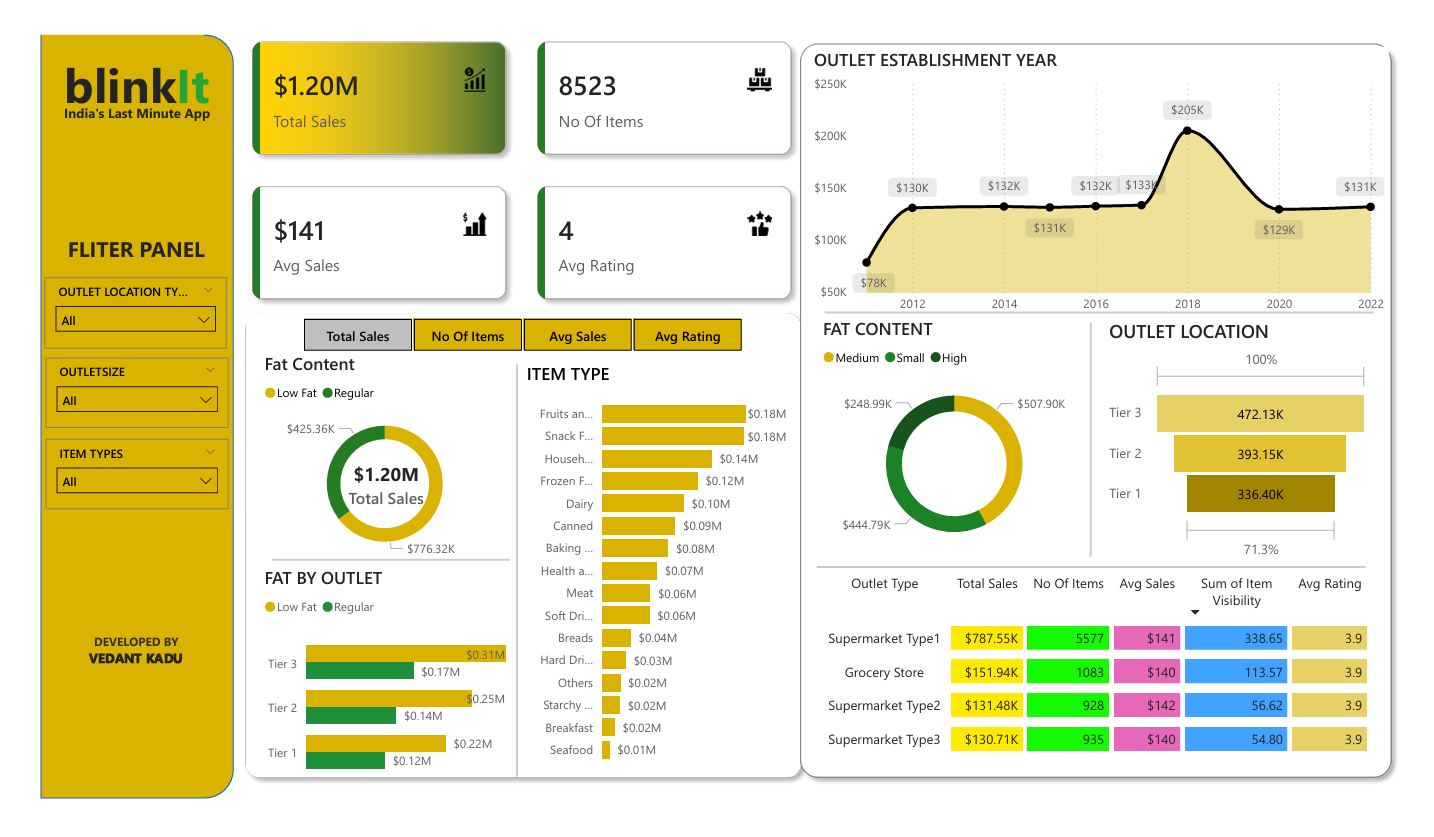

This screenshot's page, from the dashboard's own definition file:
{"tool":"powerbi","page":{"name":"Page 1","canvas":[1400,800],"ordinal":0},"visuals":[{"type":"shape","box":[16.5,12,195.1,771.4],"z":0},{"type":"textbox","box":[16.5,76.5,195.1,30],"z":1000},{"type":"textbox","box":[16.5,24,195.1,78],"z":2000},{"type":"cardVisual","fields":{"Data":["BlinkIT Grocery Data.Total Sales","BlinkIT Grocery Data.No Of Items","BlinkIT Grocery Data.Avg Sales","BlinkIT Grocery Data.Avg Rating"]},"box":[213.6,1.5,579.3,294.2],"z":3000},{"type":"shape","box":[214.6,283.7,579.3,487.8],"z":4000},{"type":"donutChart","title":"Fat Content","fields":{"Y":["BlinkIT Grocery Data.Total Sales"],"Category":["BlinkIT Grocery Data.Item Fat Content"]},"box":[237.6,331.7,253.6,217.6],"z":5000},{"type":"slicer","fields":{"Values":["Metric.Parameter"]},"box":[257.4,291.7,491.1,46.1],"z":6000},{"type":"clusteredBarChart","title":"FAT BY OUTLET","fields":{"Y":["BlinkIT Grocery Data.Total Sales"],"Category":["BlinkIT Grocery Data.Outlet Location Type"],"Series":["BlinkIT Grocery Data.Item Fat Content"]},"box":[237.6,547.8,253.6,231.1],"z":7000},{"type":"cardVisual","fields":{"Data":["BlinkIT Grocery Data.Total Sales"]},"box":[307.1,423.2,118.6,87.1],"z":8000},{"type":"barChart","title":"ITEM TYPE","fields":{"Y":["BlinkIT Grocery Data.Total Sales"],"Category":["BlinkIT Grocery Data.Item Type"]},"box":[503.3,342.2,271.7,415.7],"z":9000},{"type":"shape","box":[775.3,11.9,614.6,758.9],"z":10000},{"type":"shape","box":[479.3,345.2,37.5,415.7],"z":11000},{"type":"shape","box":[250.6,532.8,240.1,18],"z":12000},{"type":"lineChart","title":"OUTLET ESTABLISHMENT YEAR","fields":{"Y":["BlinkIT Grocery Data.Total Sales"],"Category":["BlinkIT Grocery Data.Outlet Establishment Year"]},"box":[793.2,25.3,584.8,276.8],"z":13000},{"type":"donutChart","title":"FAT CONTENT","fields":{"Y":["BlinkIT Grocery Data.Total Sales"],"Category":["BlinkIT Grocery Data.Outlet Size"]},"box":[802.1,296.1,275.3,248.5],"z":14000},{"type":"funnel","title":"OUTLET LOCATION","fields":{"Y":["Sum(BlinkIT Grocery Data.Sales)"],"Category":["BlinkIT Grocery Data.Outlet Location Type"]},"box":[1090.8,297.6,272.3,248.5],"z":15000},{"type":"pivotTable","fields":{"Rows":["BlinkIT Grocery Data.Outlet Type"],"Values":["BlinkIT Grocery Data.Total Sales","BlinkIT Grocery Data.No Of Items","BlinkIT Grocery Data.Avg Sales","Sum(BlinkIT Grocery Data.Item Visibility)","BlinkIT Grocery Data.Avg Rating"]},"box":[802.1,549.1,561,209.8],"z":16000},{"type":"shape","box":[809,273.2,553.8,39],"z":17000},{"type":"shape","box":[1064.1,303.2,27,235.6],"z":18000},{"type":"shape","box":[801.5,529.8,553.8,39],"z":19000},{"type":"slicer","fields":{"Values":["BlinkIT Grocery Data.Outlet Location Type"]},"box":[20.8,257.4,184.5,71.4],"z":20000},{"type":"slicer","fields":{"Values":["BlinkIT Grocery Data.Outlet Size"]},"box":[22.3,337.8,184.5,71.4],"z":21000},{"type":"slicer","fields":{"Values":["BlinkIT Grocery Data.Item Type"]},"box":[22.3,419.6,184.5,71.4],"z":22000},{"type":"textbox","box":[16.4,208.3,194.9,49.1],"z":23000},{"type":"textbox","box":[22.3,610.1,183,53.6],"z":24000}]}

Visuals, with their boxes in screenshot pixels (x1, y1, x2, y2), scaled from the page's 1400x800 canvas onto the 1434x837 screenshot:
shape: box(17, 13, 217, 820)
textbox: box(17, 80, 217, 111)
textbox: box(17, 25, 217, 107)
cardVisual - BlinkIT Grocery Data.Total Sales x BlinkIT Grocery Data.No Of Items: box(219, 2, 812, 309)
shape: box(220, 297, 813, 807)
"Fat Content" donutChart: box(243, 347, 503, 575)
slicer - Metric.Parameter: box(264, 305, 767, 353)
"FAT BY OUTLET" clusteredBarChart: box(243, 573, 503, 815)
cardVisual - BlinkIT Grocery Data.Total Sales: box(315, 443, 436, 534)
"ITEM TYPE" barChart: box(516, 358, 794, 793)
shape: box(794, 12, 1424, 806)
shape: box(491, 361, 529, 796)
shape: box(257, 557, 503, 576)
"OUTLET ESTABLISHMENT YEAR" lineChart: box(812, 26, 1411, 316)
"FAT CONTENT" donutChart: box(822, 310, 1104, 570)
"OUTLET LOCATION" funnel: box(1117, 311, 1396, 571)
pivotTable - BlinkIT Grocery Data.Outlet Type x BlinkIT Grocery Data.Total Sales: box(822, 574, 1396, 794)
shape: box(829, 286, 1396, 327)
shape: box(1090, 317, 1118, 564)
shape: box(821, 554, 1388, 595)
slicer - BlinkIT Grocery Data.Outlet Location Type: box(21, 269, 210, 344)
slicer - BlinkIT Grocery Data.Outlet Size: box(23, 353, 212, 428)
slicer - BlinkIT Grocery Data.Item Type: box(23, 439, 212, 514)
textbox: box(17, 218, 216, 269)
textbox: box(23, 638, 210, 694)
